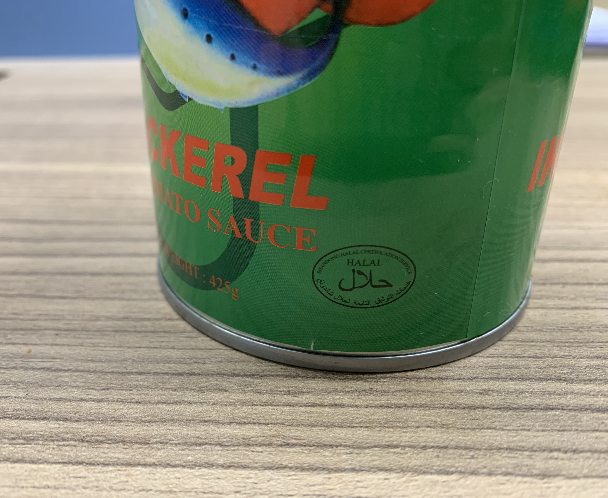halal: (329, 254, 399, 297)
